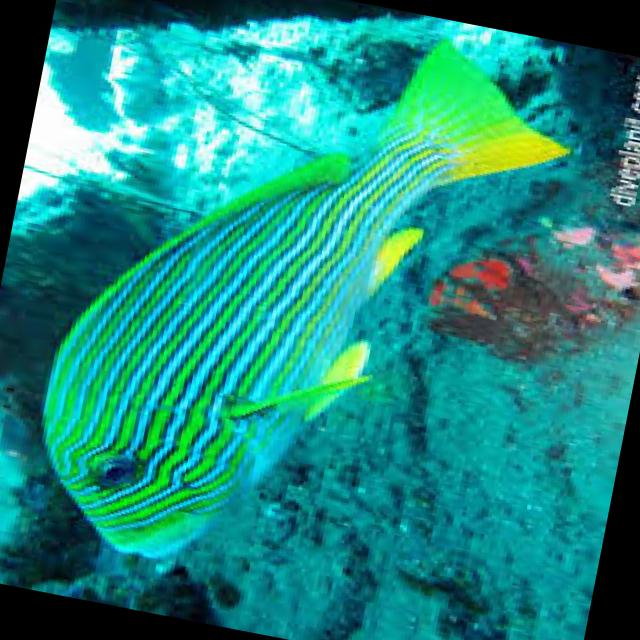RibbonedSweetlips: (12, 0, 586, 625)
